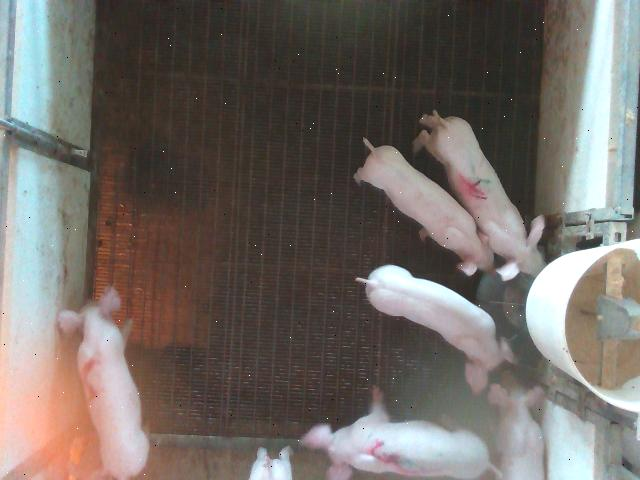pig-2: (58, 286, 149, 479)
pig-3: (301, 388, 492, 479)
pig-4: (414, 111, 545, 281)
